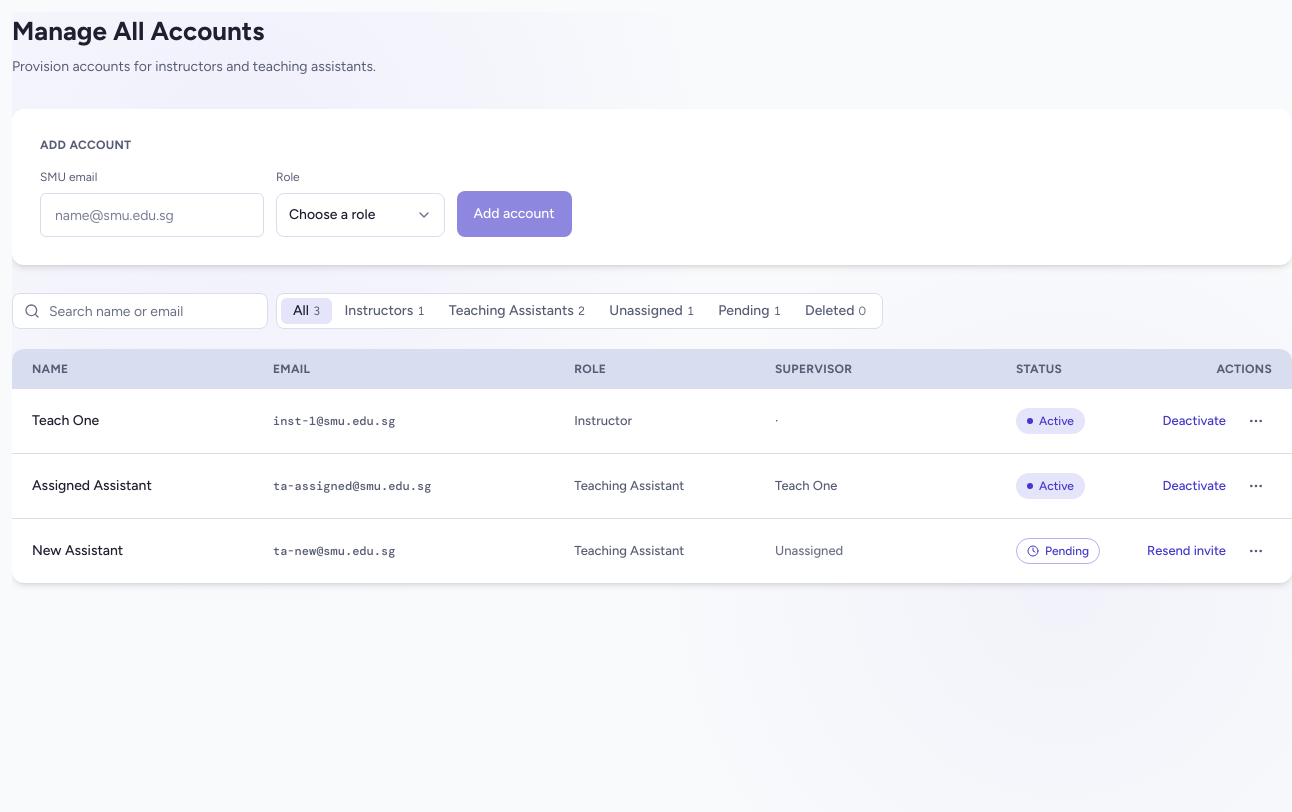
Scenario: UsersPage - pending invites › counts and filters pending accounts
What coordinates should you click on to do the following:
click the radio button labelled "Pending 1"
I would click on:
 (750, 311)
Its box is [706,298,793,324].
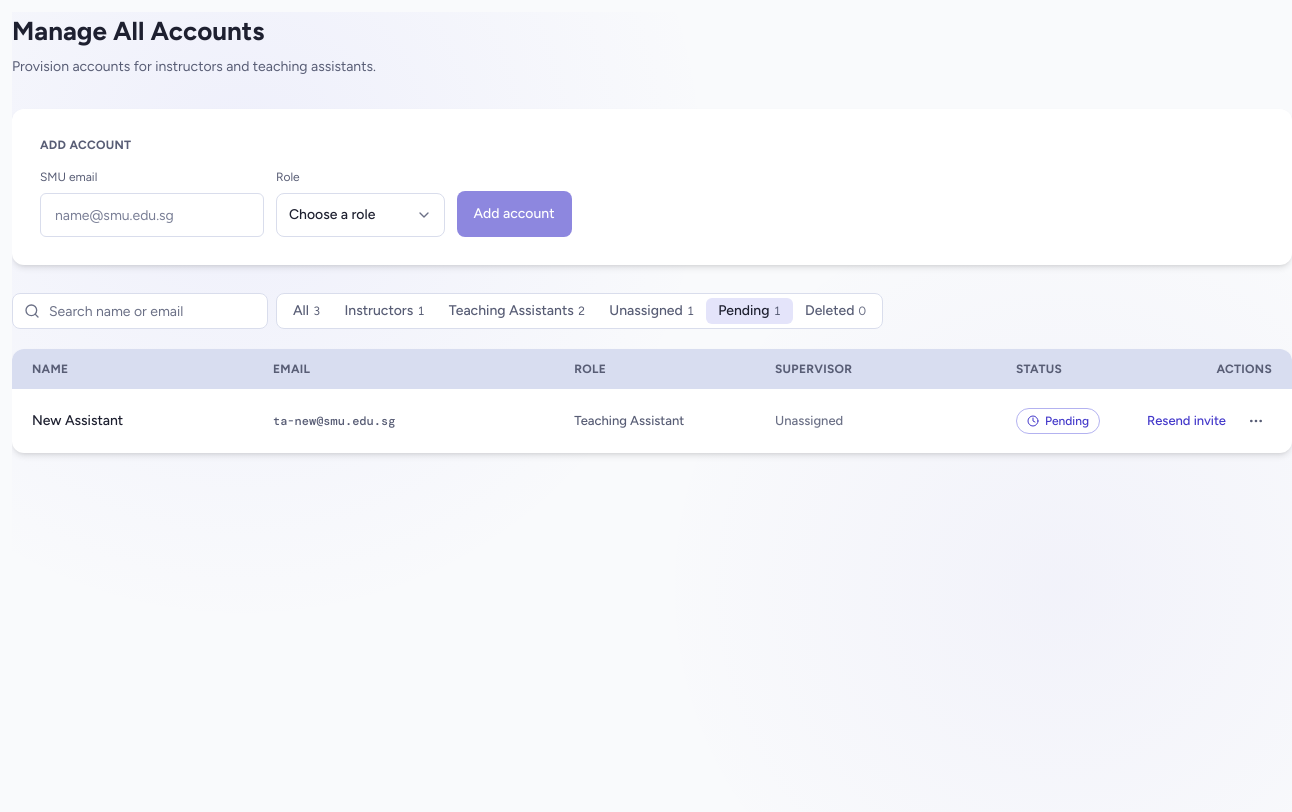
Check: the text "Assigned Assistant" is gone
